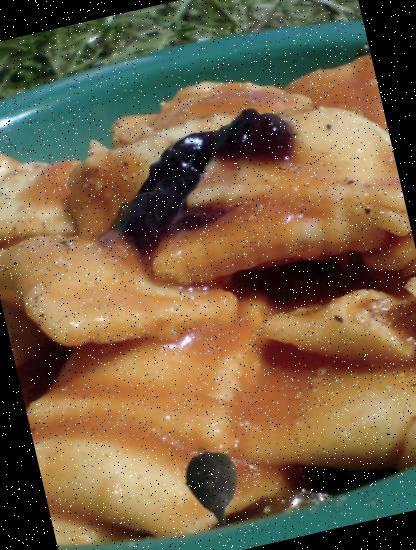Beetroot: (163, 434, 266, 536)
